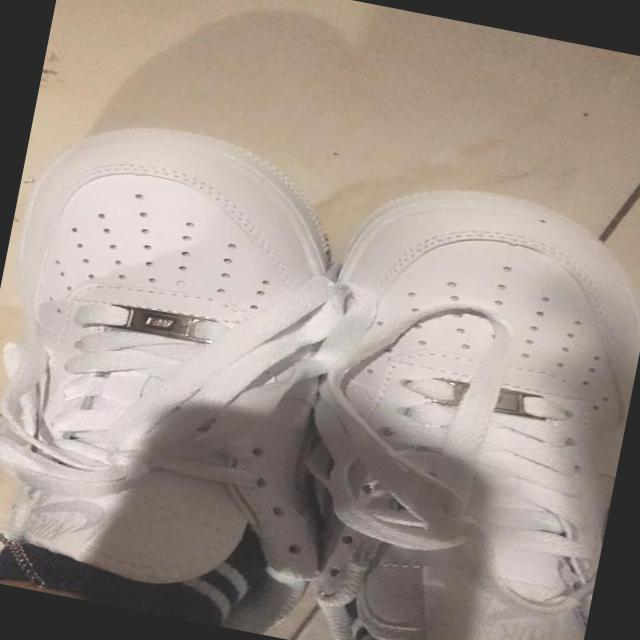nike_fake_airforce: (0, 98, 394, 640), (265, 162, 640, 640)
